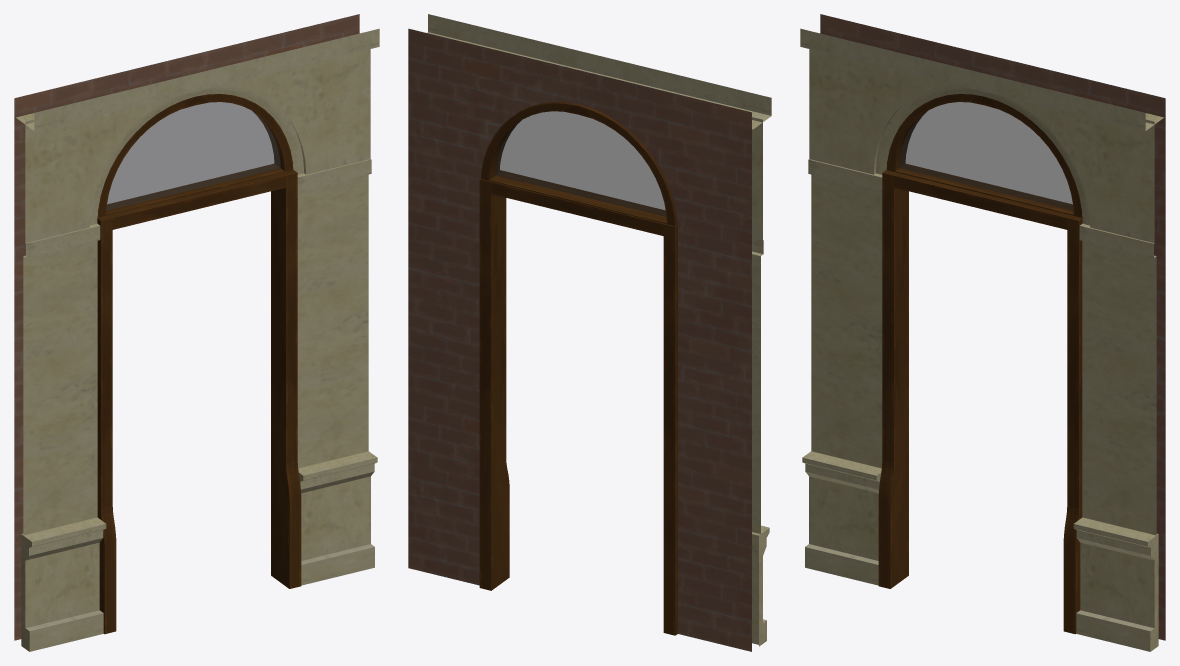
Rendered from doorframe_trim.glb.
3 renders of one model, left to right at view 1: azimuth 30°, elevation 25°; view 2: azimuth 150°, elevation 25°; view 3: azimuth 330°, elevation 25°, orthographic.
Visible parts, largest first — view 1: DoorFrame_Trim; view 2: DoorFrame_Trim; view 3: DoorFrame_Trim.
Part boxes in pixels (box(x1,y1,x2,y2)): DoorFrame_Trim: box(14, 14, 379, 651); DoorFrame_Trim: box(408, 14, 771, 651); DoorFrame_Trim: box(800, 14, 1165, 651).
Size of the model in its own units: 2 by 3 by 0.2256.
4 materials, 3 textured.
